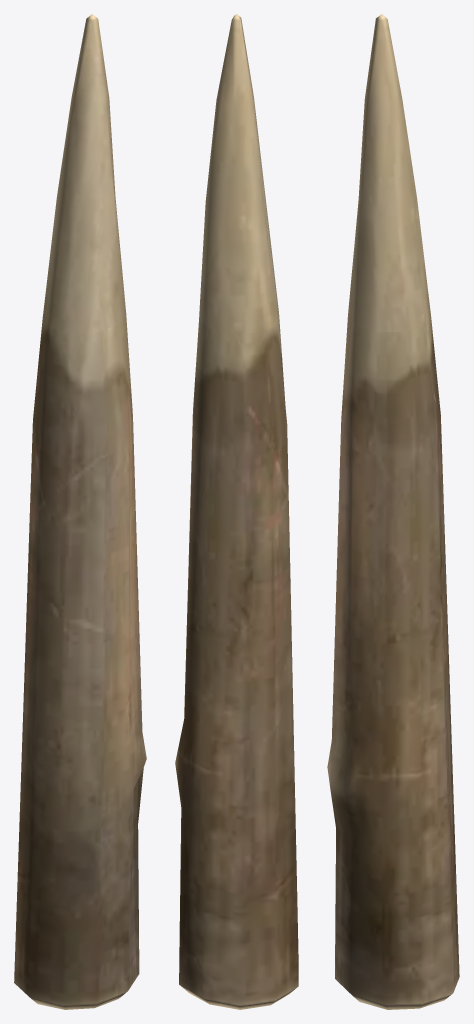
3 renders of one model, left to right at view 1: azimuth 90°, elevation 25°; view 2: azimuth 210°, elevation 25°; view 3: azimuth 270°, elevation 25°, orthographic.
Visible parts, largest first — view 1: SM_Garou_Set_SM_Spike_02_01_LOD0; view 2: SM_Garou_Set_SM_Spike_02_01_LOD0; view 3: SM_Garou_Set_SM_Spike_02_01_LOD0.
Boxes of the visible parts, <box> form: SM_Garou_Set_SM_Spike_02_01_LOD0: <box>14,14,146,1009</box>; SM_Garou_Set_SM_Spike_02_01_LOD0: <box>175,14,298,1009</box>; SM_Garou_Set_SM_Spike_02_01_LOD0: <box>327,14,459,1009</box>.
Size of the model in its own units: 0.1787 by 1.54 by 0.1899.
Materials: 1 (1 with a texture image).
